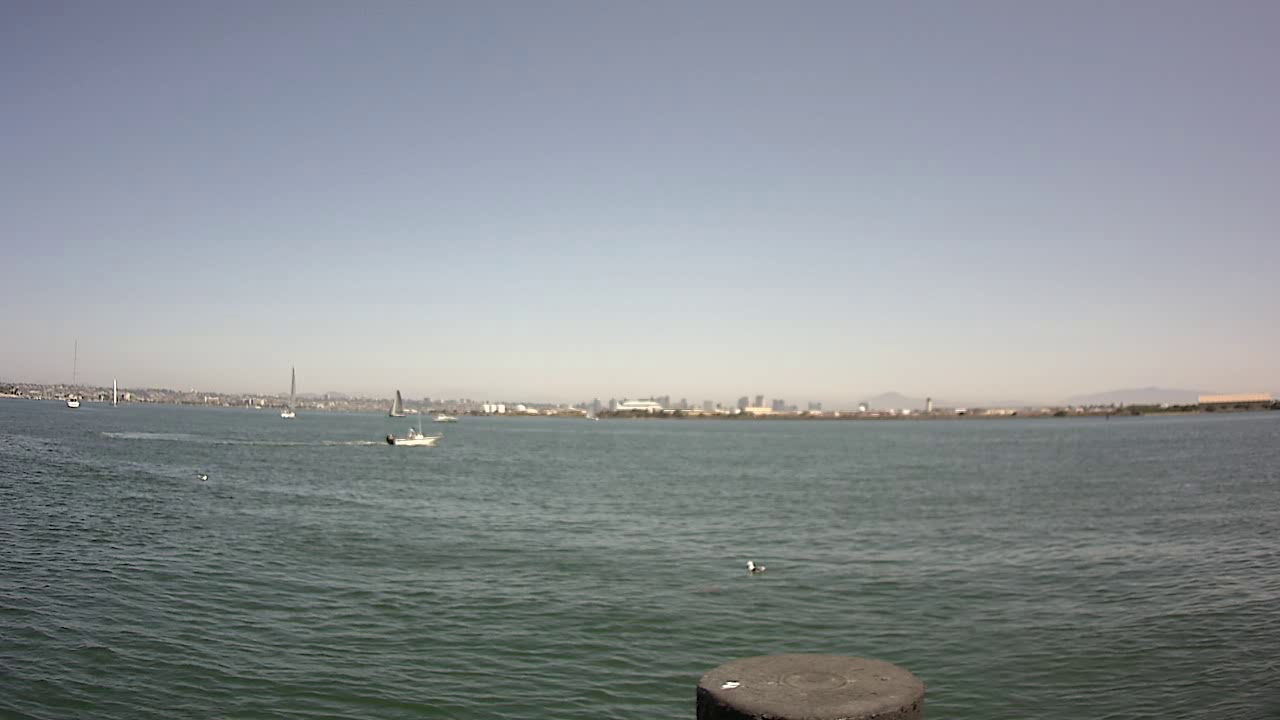target: (375, 415, 459, 454)
